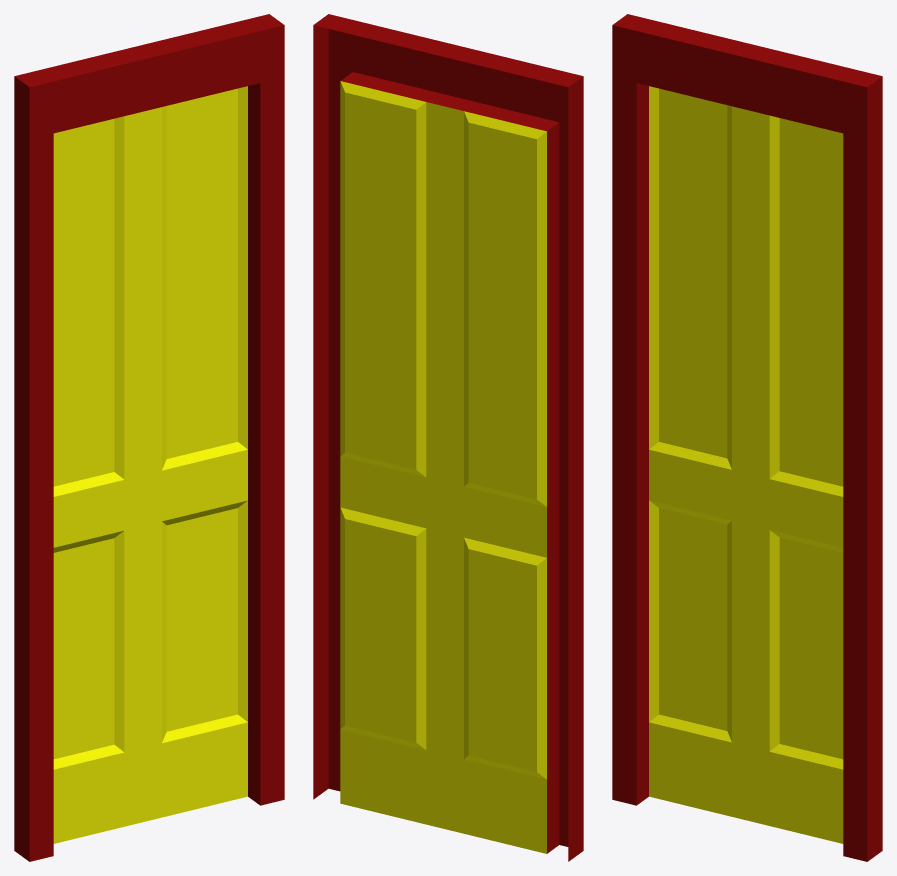
The model's file is Door.FBX.
3 views of the same model, side by side, from view 1: azimuth 30°, elevation 25°; view 2: azimuth 150°, elevation 25°; view 3: azimuth 330°, elevation 25° (orthographic).
Parts seen in each view (by area): view 1: Box008; view 2: Box008; view 3: Box008.
Part boxes in pixels (x1,y1,x2,y2): Box008: (14,14,284,861); Box008: (313,14,583,861); Box008: (612,14,882,861).
Size of the model in its own units: 100 by 290 by 10.32.
